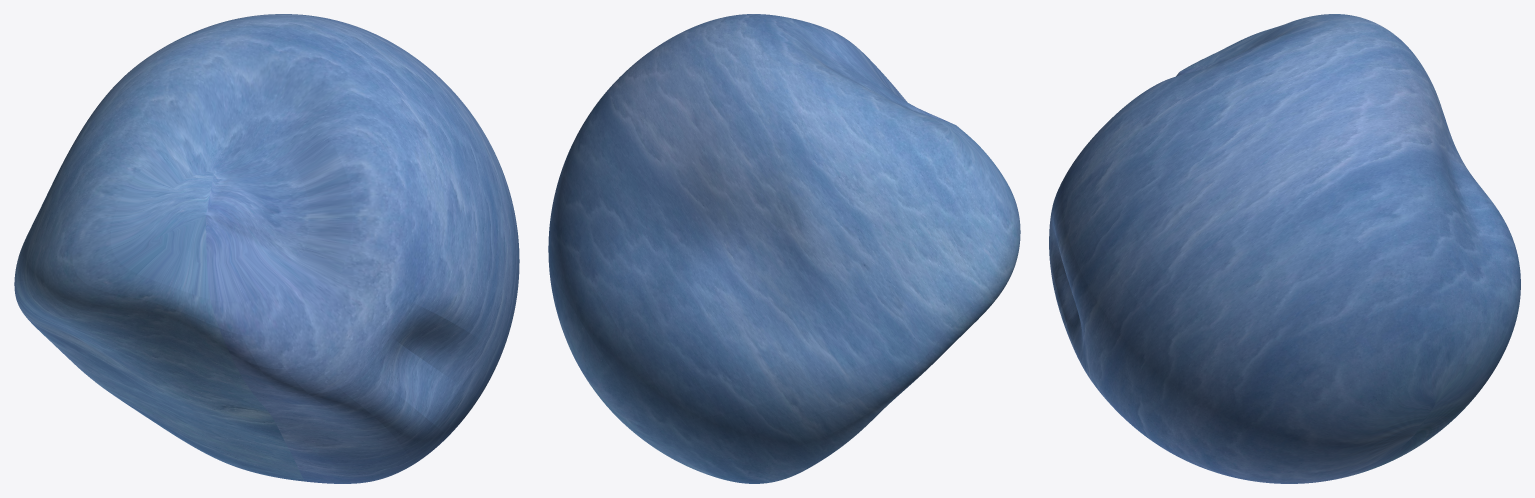
File: Asteroid_2-3.fbx
3 renders of one model, left to right at view 1: azimuth 30°, elevation 25°; view 2: azimuth 150°, elevation 25°; view 3: azimuth 270°, elevation 25°, orthographic. The views are drawn at different scales.
Visible parts, largest first — view 1: Asteroid_2-3; view 2: Asteroid_2-3; view 3: Asteroid_2-3.
Part boxes in pixels (x1=…): Asteroid_2-3: x1=14, y1=14, x2=519, y2=483; Asteroid_2-3: x1=548, y1=14, x2=1020, y2=483; Asteroid_2-3: x1=1049, y1=14, x2=1520, y2=483.
Size of the model in its own units: 2.02 by 1.91 by 1.92.
Materials: 1 (1 with a texture image).
